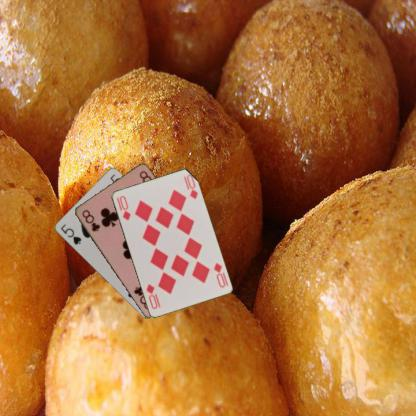10d: (114, 193, 132, 222), (211, 260, 226, 289)
5s: (58, 221, 82, 246)
8c: (79, 207, 101, 233)
